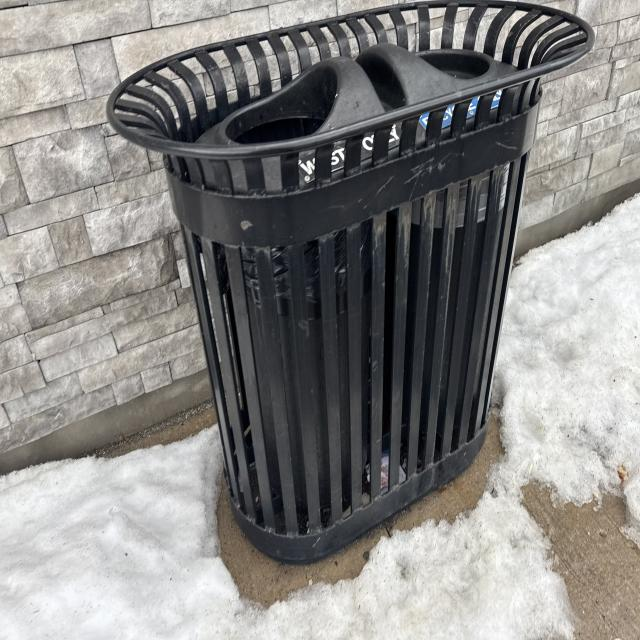Dustbin: (108, 0, 596, 567)
